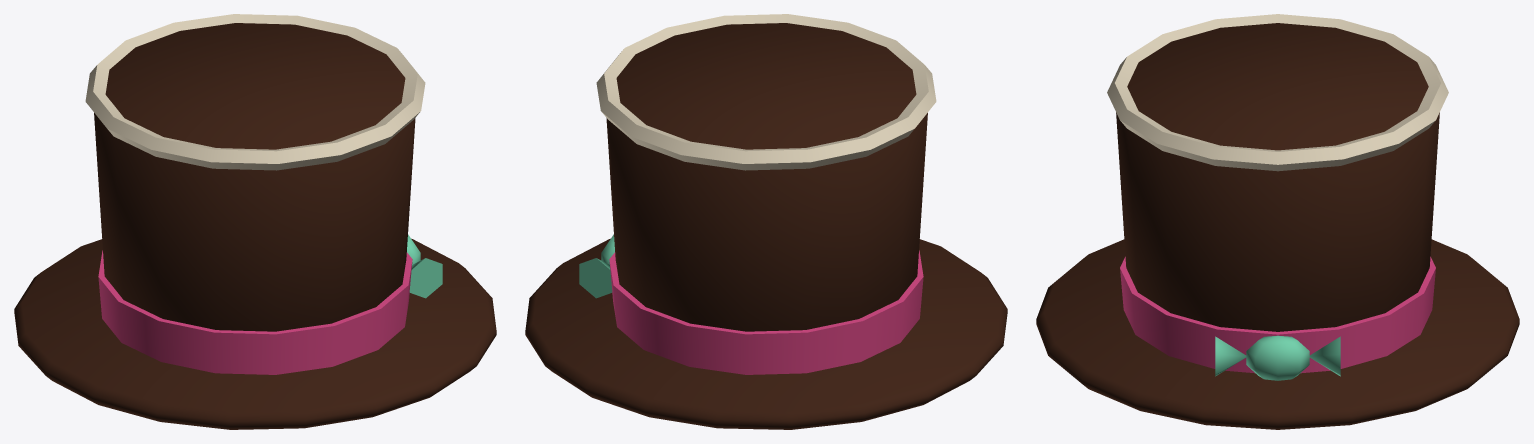
The model's file is top_hat.glb.
3 renders of one model, left to right at view 1: azimuth 30°, elevation 25°; view 2: azimuth 150°, elevation 25°; view 3: azimuth 270°, elevation 25°, orthographic.
Visible parts, largest first — view 1: top_hat; view 2: top_hat; view 3: top_hat.
Boxes of the visible parts, left/top/right/bottom form: top_hat: left=14, top=14, right=496, bottom=429; top_hat: left=525, top=14, right=1007, bottom=429; top_hat: left=1036, top=14, right=1519, bottom=429.
Bounding box in the file's own units: 0.52 × 0.2944 × 0.52.
